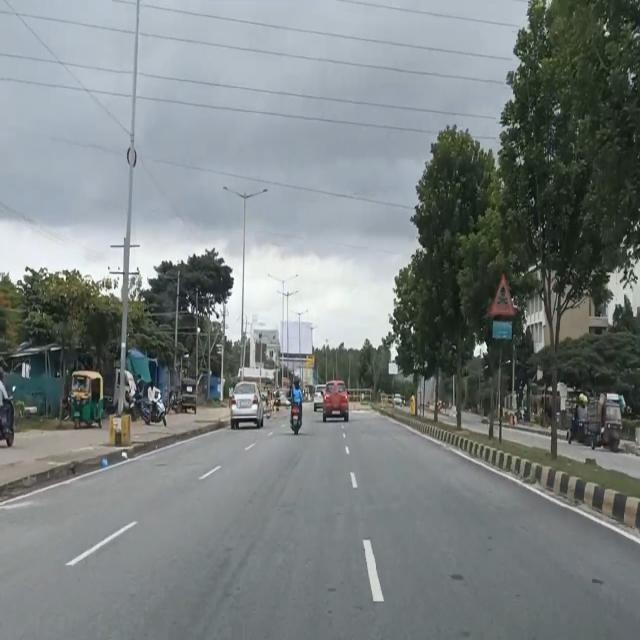bien_cam: (489, 267, 515, 318)
